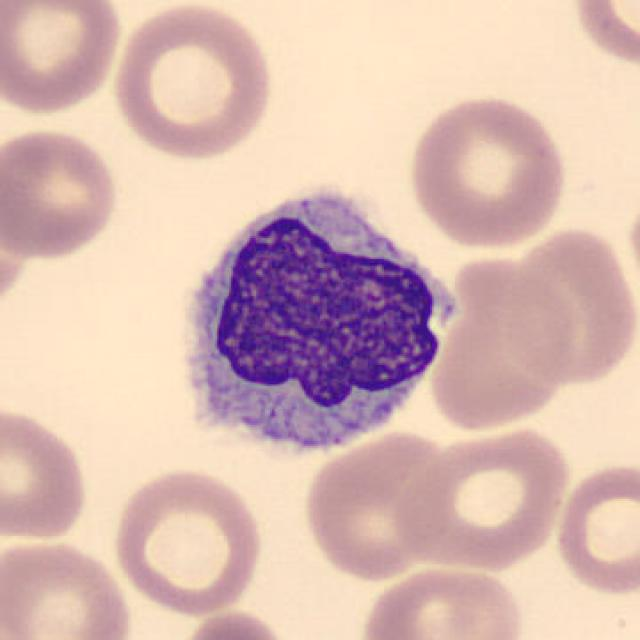Monocyte: (160, 173, 469, 474)
RBC: (436, 253, 587, 438), (107, 0, 277, 162), (403, 90, 572, 252), (395, 421, 574, 573), (298, 426, 458, 584), (108, 464, 266, 619), (496, 224, 638, 390), (2, 123, 122, 263), (0, 0, 126, 120), (0, 532, 135, 640), (356, 562, 528, 640), (0, 402, 92, 545), (551, 457, 638, 598), (565, 0, 639, 72), (172, 608, 294, 640), (624, 180, 640, 310)
